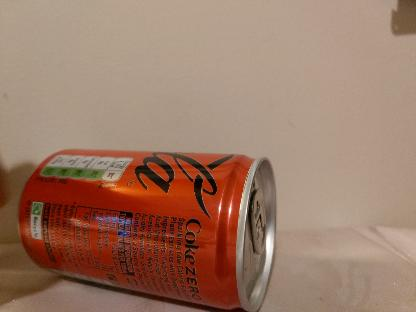Can: (18, 148, 278, 312)
